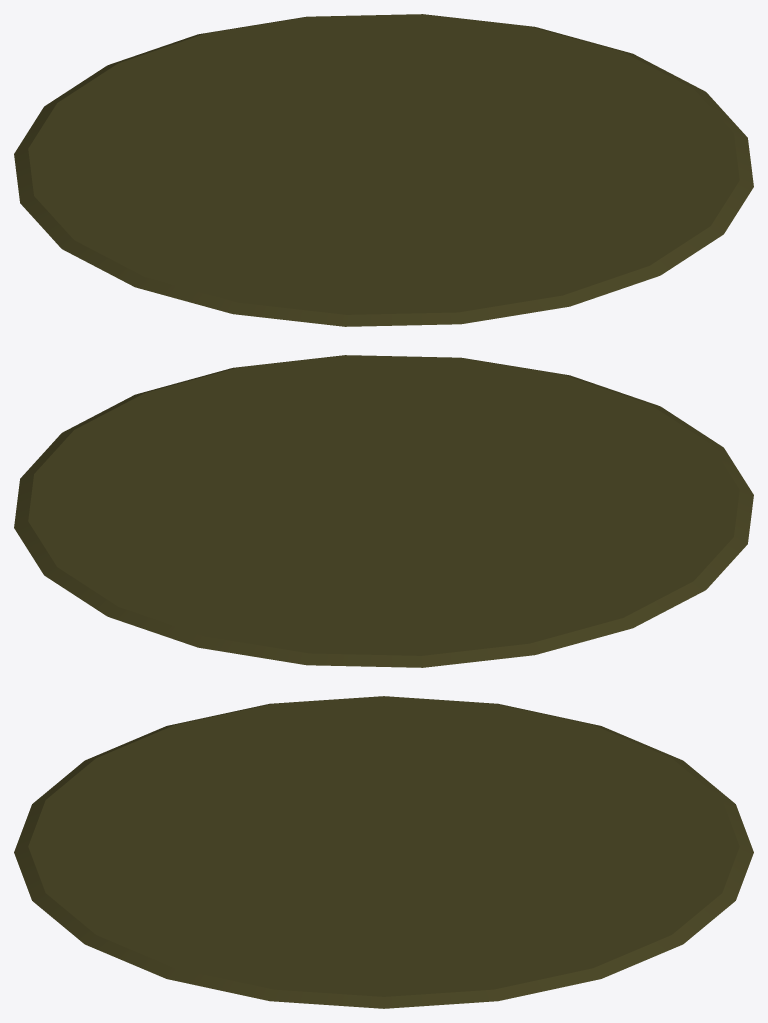
Rendered from sapling_big_pot_dirt.fbx.
3 renders of one model, top to bottom at view 1: azimuth 30°, elevation 25°; view 2: azimuth 150°, elevation 25°; view 3: azimuth 270°, elevation 25°, orthographic.
Parts seen in each view (by area): view 1: polySurface7; view 2: polySurface7; view 3: polySurface7.
Boxes of the visible parts, x1=… form: polySurface7: x1=14, y1=14, x2=753, y2=326; polySurface7: x1=14, y1=355, x2=753, y2=667; polySurface7: x1=14, y1=696, x2=753, y2=1008.
Bounding box in the file's own units: 897 × 7.87 × 897.
